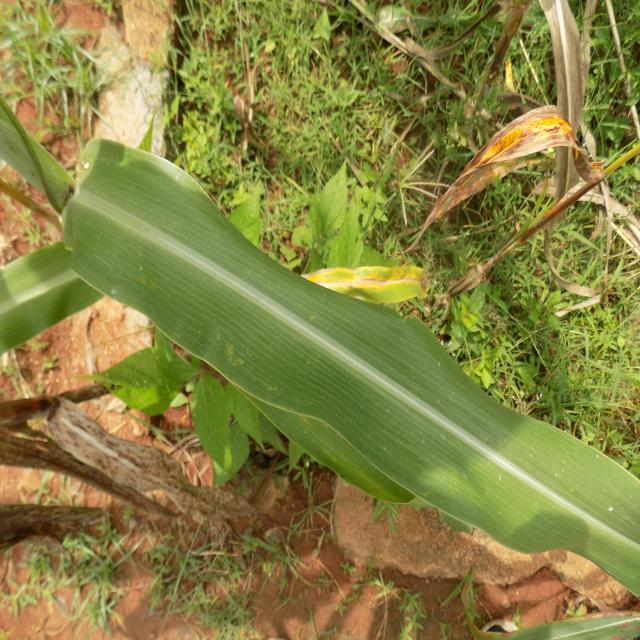millet_healthy: (62, 139, 640, 595), (0, 194, 214, 360)
millet_rust: (48, 399, 266, 535), (412, 99, 604, 239), (163, 260, 433, 310), (532, 0, 589, 229), (0, 499, 102, 559)
